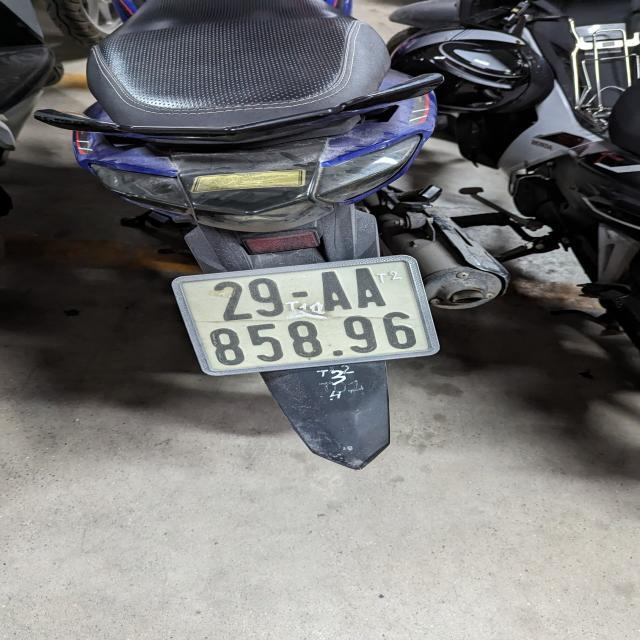license: (170, 253, 440, 376)
